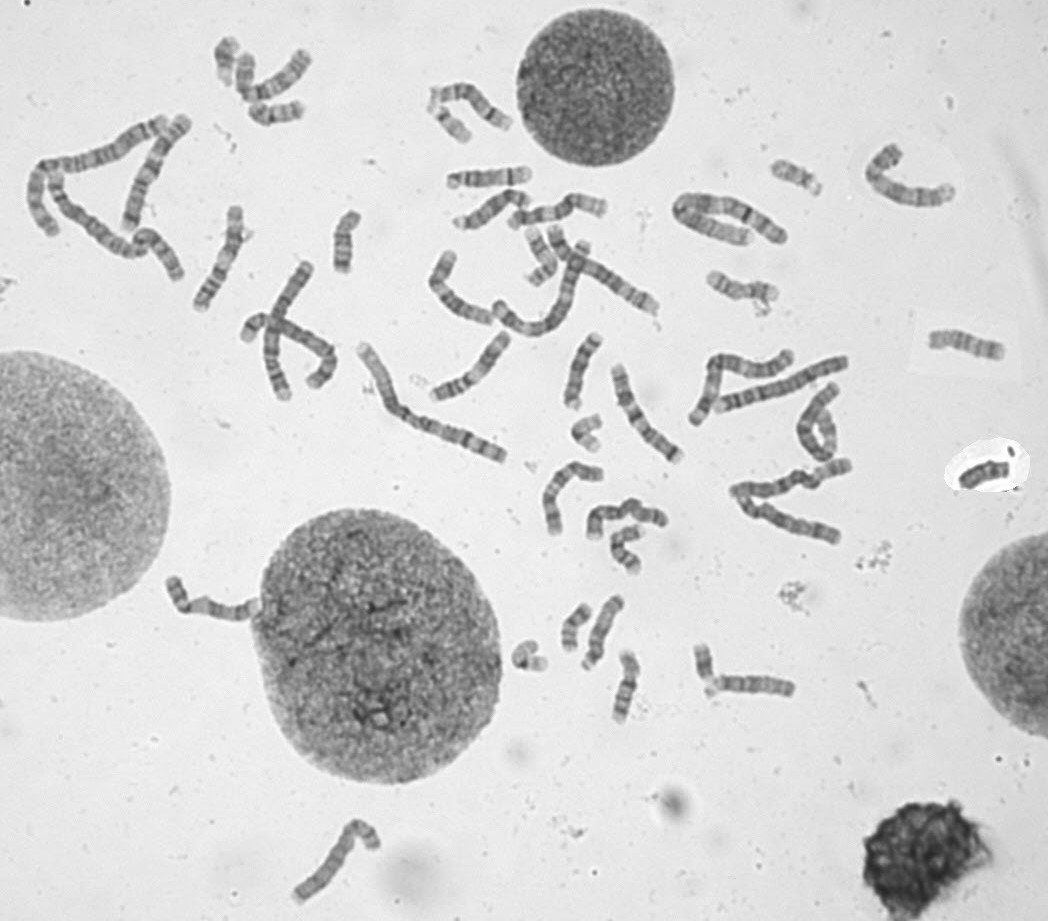chromosomes: (354, 337, 511, 467), (21, 109, 172, 243), (42, 168, 192, 282), (491, 239, 596, 341), (120, 106, 199, 233), (544, 226, 662, 311), (606, 355, 692, 467), (691, 344, 801, 427), (237, 310, 345, 393), (279, 816, 385, 900), (717, 352, 852, 417), (260, 253, 315, 406), (416, 328, 518, 406), (669, 191, 793, 253), (860, 136, 957, 211), (731, 494, 853, 551), (726, 455, 856, 505), (164, 568, 267, 629), (193, 198, 246, 312), (428, 245, 497, 329), (540, 461, 607, 541), (421, 84, 521, 137), (233, 44, 319, 104), (509, 191, 613, 237), (556, 329, 605, 416), (578, 592, 629, 675), (446, 188, 533, 236), (794, 380, 848, 457), (581, 495, 672, 540), (923, 325, 1016, 368), (703, 671, 810, 703), (953, 454, 1021, 504), (765, 156, 833, 202), (701, 270, 784, 305), (330, 207, 366, 277), (429, 101, 481, 149), (524, 224, 561, 291), (612, 646, 641, 729), (609, 518, 646, 582), (207, 32, 245, 92), (690, 639, 723, 708), (559, 598, 596, 659), (447, 165, 534, 190), (247, 100, 309, 131), (507, 634, 552, 676), (570, 410, 604, 456)
